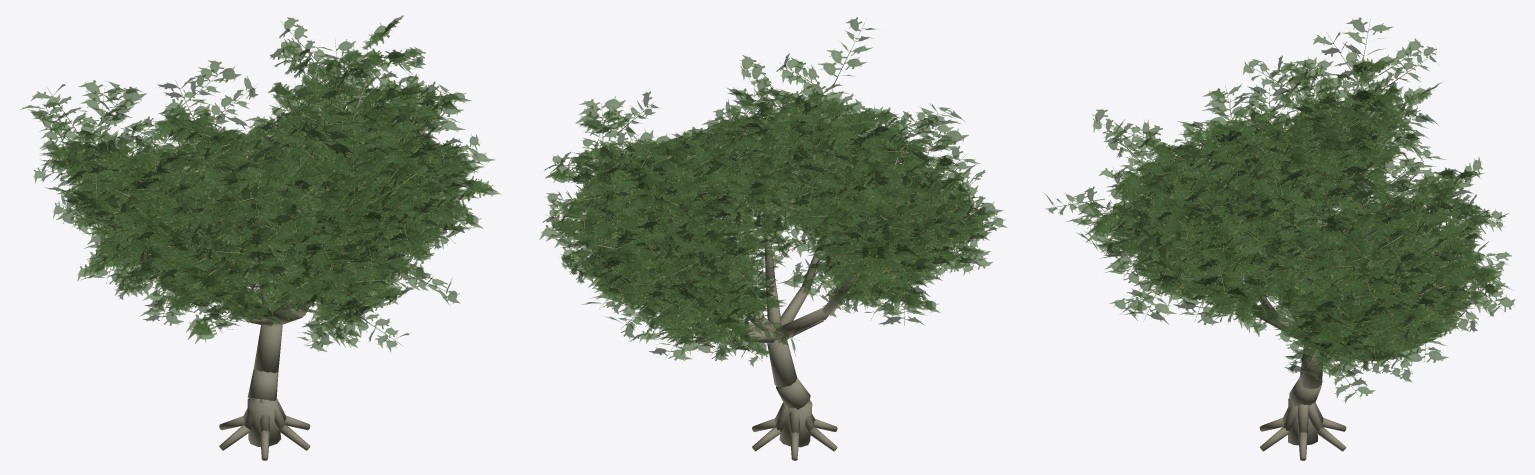
Rendered from mango_tree.glb.
3 renders of one model, left to right at view 1: azimuth 30°, elevation 25°; view 2: azimuth 150°, elevation 25°; view 3: azimuth 270°, elevation 25°, orthographic. The views are drawn at different scales.
Visible parts, largest first — view 1: mango_tree; view 2: mango_tree; view 3: mango_tree.
Boxes of the visible parts, left/top/right/bottom form: mango_tree: left=20, top=15, right=501, bottom=460; mango_tree: left=539, top=17, right=1007, bottom=460; mango_tree: left=1045, top=17, right=1514, bottom=460.
Size of the model in its own units: 10.69 by 7.93 by 10.05.
Materials: 2 (1 with a texture image).
